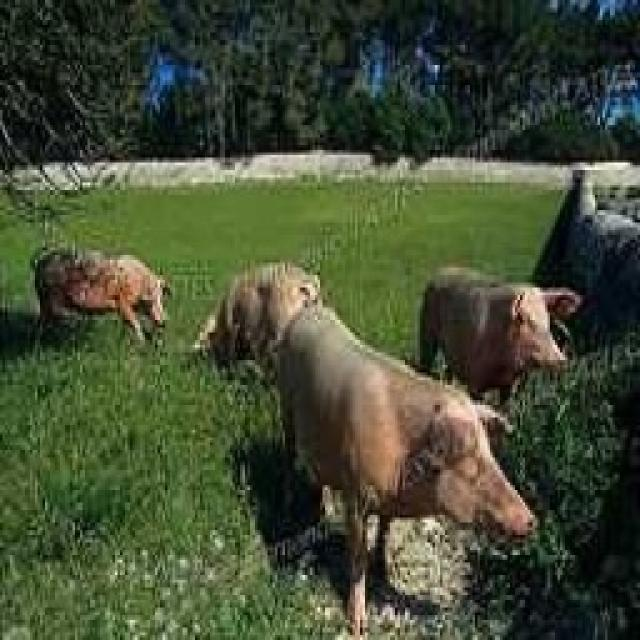pig: (278, 302, 548, 628), (415, 265, 583, 405), (28, 245, 172, 347)
